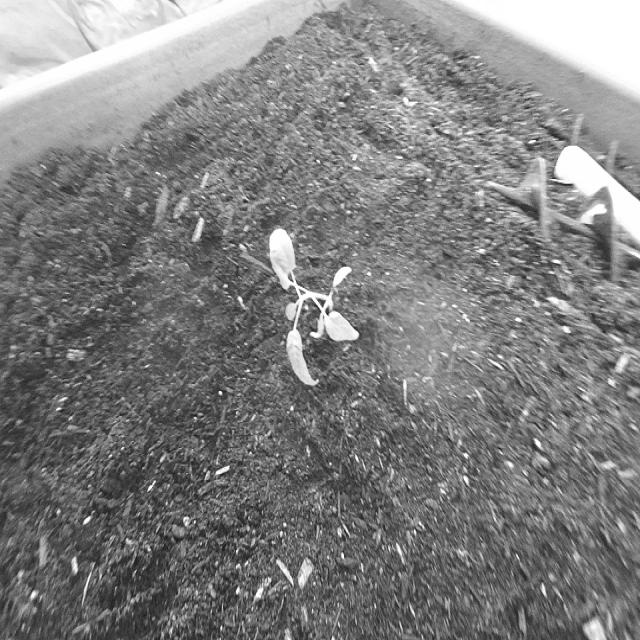Healthy: (264, 226, 363, 394)
